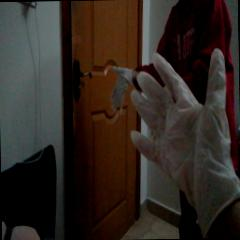gloved: (129, 48, 239, 239), (110, 66, 132, 114)
